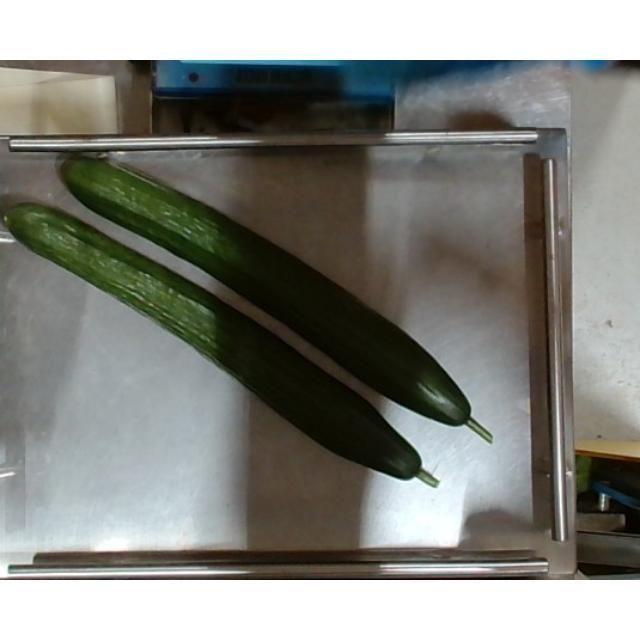cucumber: (59, 154, 493, 446), (4, 204, 440, 488)
